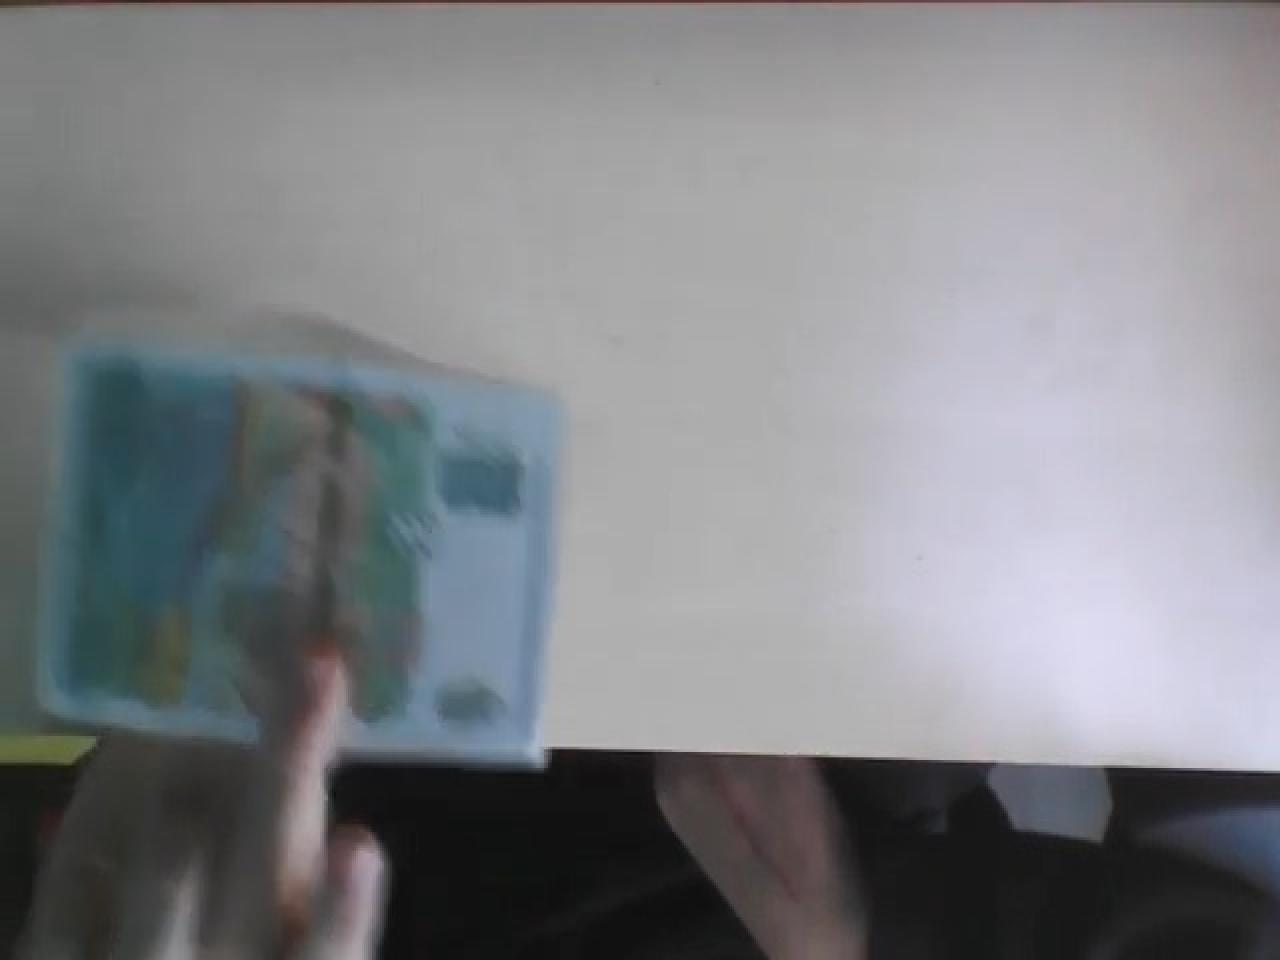100leva: (34, 315, 564, 776)
